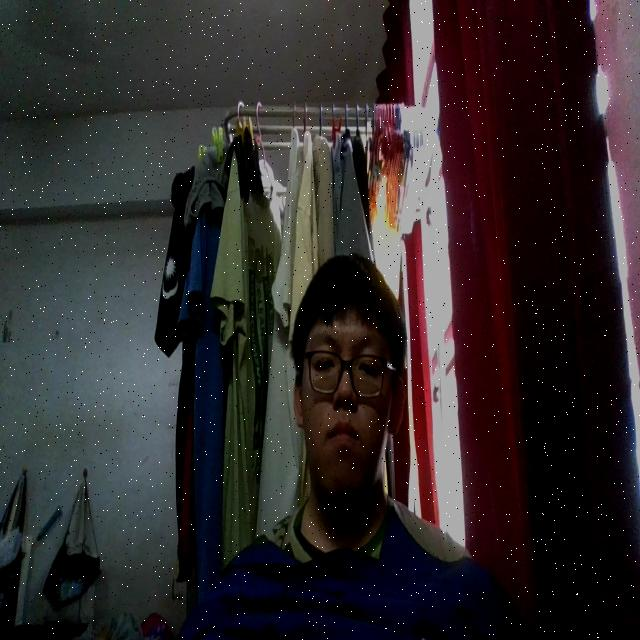person_without_labcoat: (181, 254, 528, 639)
